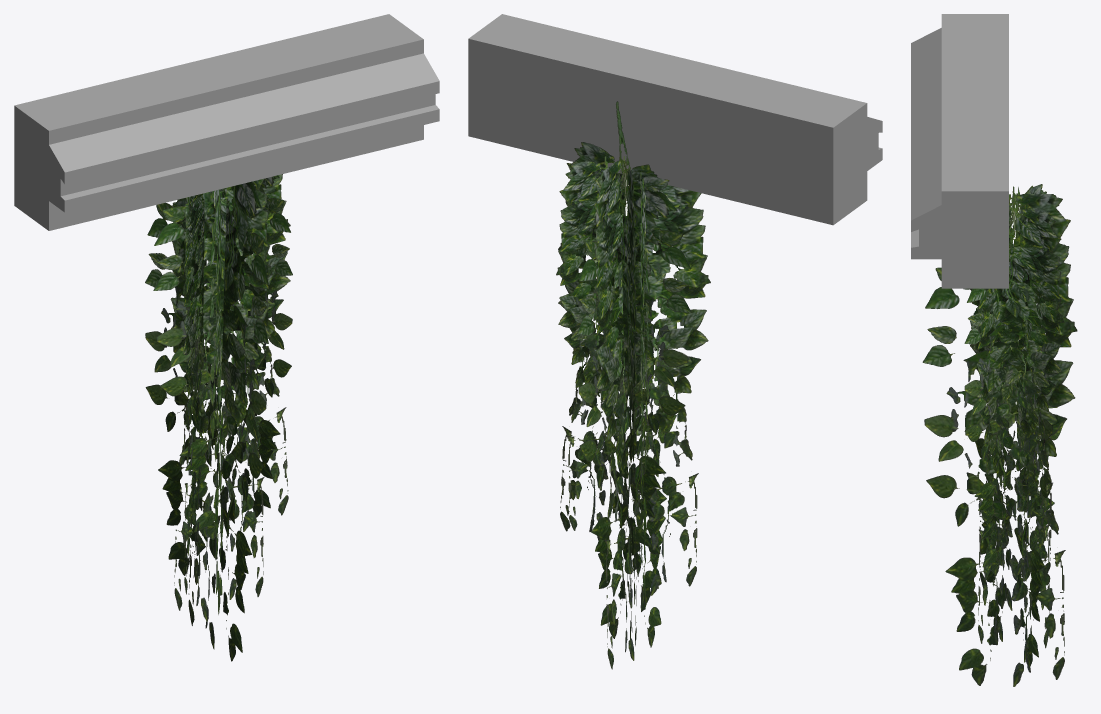
Rendered from plant_fall_S.fbx.
3 renders of one model, left to right at view 1: azimuth 30°, elevation 25°; view 2: azimuth 150°, elevation 25°; view 3: azimuth 270°, elevation 25°, orthographic. The views are drawn at different scales.
Visible parts, largest first — view 1: Emetteur, small; view 2: Emetteur, small; view 3: small, Emetteur.
Part boxes in pixels (x1,y1,x2,y2): Emetteur: (14, 14, 439, 230); small: (145, 174, 292, 661); Emetteur: (468, 14, 882, 225); small: (556, 101, 710, 669); small: (922, 184, 1077, 686); Emetteur: (911, 14, 1008, 288).
Bounding box in the file's own units: 132 × 204 × 55.15.
